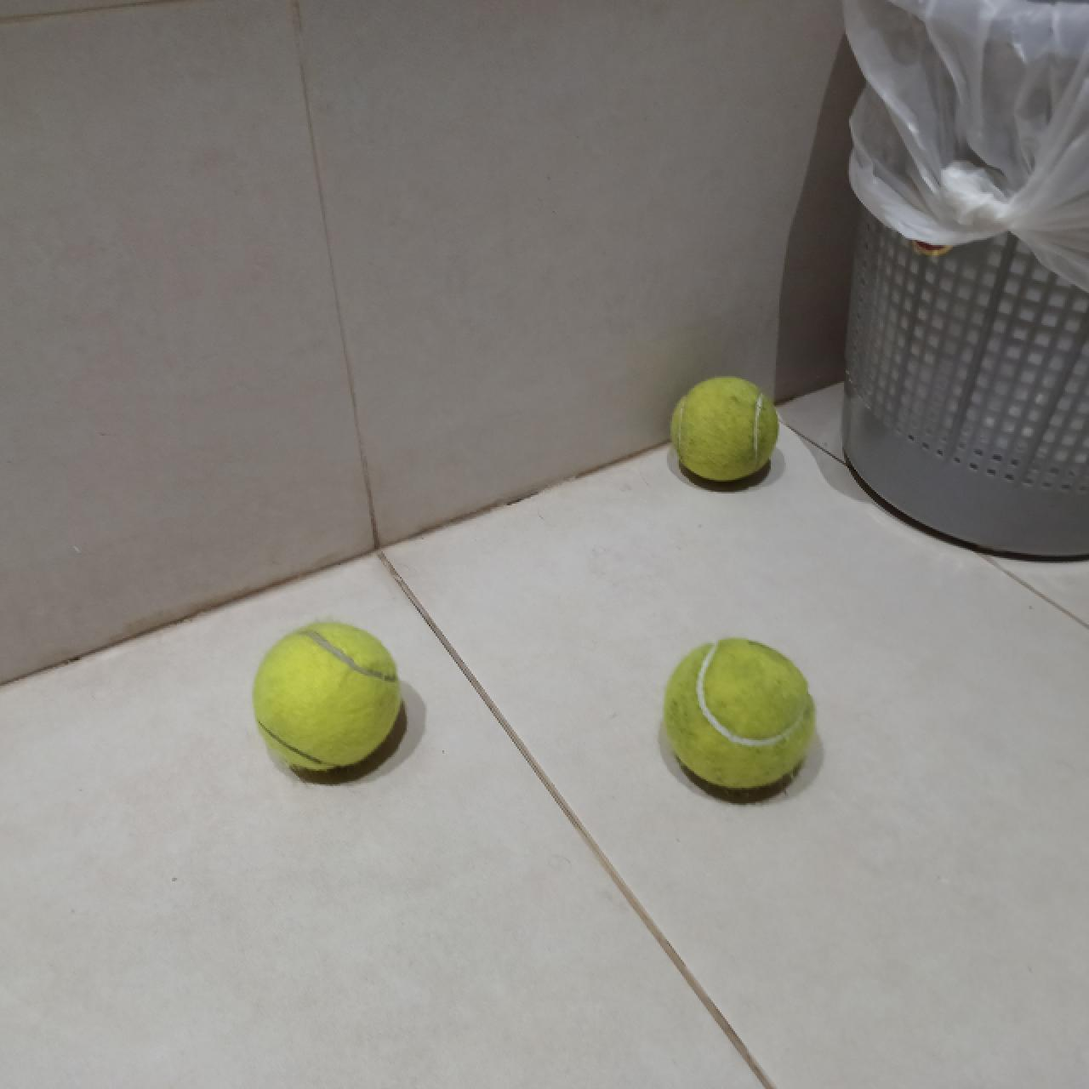tennis-ball: (659, 636, 820, 795), (251, 620, 404, 775), (671, 376, 780, 486)
